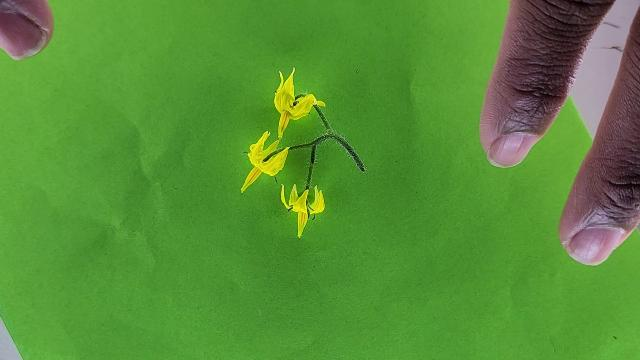Anthesis: (273, 65, 322, 140), (240, 129, 290, 192), (280, 180, 326, 238), (308, 184, 325, 215)
